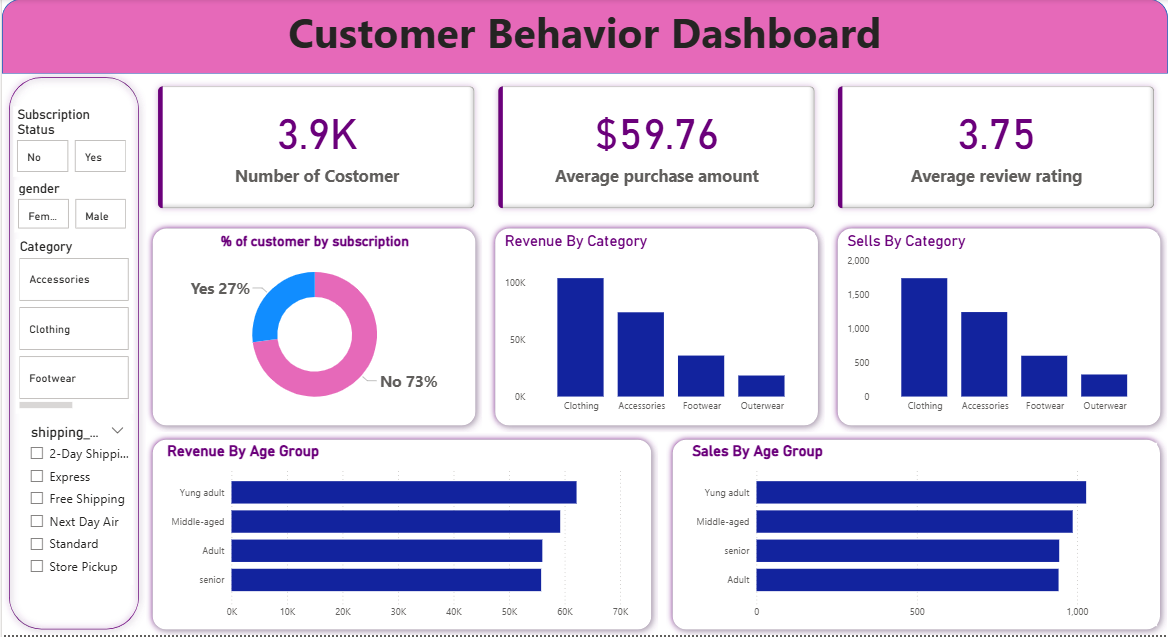

The dashboard page shown, as its layout file describes it:
{"tool":"powerbi","page":{"name":"Page 1","canvas":[1500,820],"ordinal":0},"visuals":[{"type":"cardVisual","fields":{"Data":["mydatabase mytable.Number of Costomer","mydatabase mytable.Average purchase amount","mydatabase mytable.Average review rating"]},"box":[185.2,96.1,1314.7,189.4],"z":0},{"type":"shape","box":[0,0,1499.9,96.1],"z":1000},{"type":"textbox","box":[0,0,1499.9,96.1],"z":2000},{"type":"shape","box":[185.2,285.5,433.1,271.6],"z":3000},{"type":"donutChart","title":"% of customer by subscription ","fields":{"Category":["mydatabase mytable.subscription_status"],"Y":["CountNonNull(mydatabase mytable.customer_id)"]},"box":[207.5,300.8,389.9,240.9],"z":4000},{"type":"shape","box":[1066.8,285.5,433.1,271.6],"z":5000},{"type":"shape","box":[625.3,285.5,433.1,271.6],"z":6000},{"type":"clusteredColumnChart","title":"Revenue By Category","fields":{"Y":["Sum(mydatabase mytable.purchase_amount)"],"Category":["mydatabase mytable.category"]},"box":[642,300.8,403.9,240.9],"z":7000},{"type":"clusteredColumnChart","title":"Sells By Category","fields":{"Y":["CountNonNull(mydatabase mytable.customer_id)"],"Category":["mydatabase mytable.category"]},"box":[1082.1,300.8,403.9,240.9],"z":8000},{"type":"shape","box":[0,91.9,185.2,728.4],"z":9000},{"type":"advancedSlicerVisual","fields":{"Values":["mydatabase mytable.gender"]},"box":[16.1,233.2,149.6,67.5],"z":10000},{"type":"advancedSlicerVisual","fields":{"Values":["mydatabase mytable.subscription_status"]},"box":[14.5,138.3,151.2,90.1],"z":11000},{"type":"advancedSlicerVisual","fields":{"Values":["mydatabase mytable.category"]},"box":[17.7,308.7,151.2,225.1],"z":12000},{"type":"slicer","fields":{"Values":["mydatabase mytable.shipping_type"]},"box":[24.1,541.9,144.7,212.3],"z":12001},{"type":"shape","box":[184.9,558,659.3,262.1],"z":12004},{"type":"clusteredBarChart","title":"Revenue By Age Group","fields":{"Y":["Sum(mydatabase mytable.purchase_amount)"],"Category":["mydatabase mytable.age_group"]},"box":[207.4,570.9,603,236.4],"z":12005},{"type":"shape","box":[853.9,558,644.8,262.1],"z":12006},{"type":"clusteredBarChart","title":"Sales By Age Group","fields":{"Y":["CountNonNull(mydatabase mytable.customer_id)"],"Category":["mydatabase mytable.age_group"]},"box":[882.8,570.9,603,236.4],"z":12007}]}

Visuals, with their boxes in screenshot pixels (x1, y1, x2, y2), scaled from the page's 1500x820 canvas onto the 1168x637 screenshot:
cardVisual - mydatabase mytable.Number of Costomer x mydatabase mytable.Average purchase amount: <box>144,75,1167,222</box>
shape: <box>0,0,1167,75</box>
textbox: <box>0,0,1167,75</box>
shape: <box>144,222,481,433</box>
"% of customer by subscription " donutChart: <box>162,234,465,421</box>
shape: <box>831,222,1167,433</box>
shape: <box>487,222,824,433</box>
"Revenue By Category" clusteredColumnChart: <box>500,234,814,421</box>
"Sells By Category" clusteredColumnChart: <box>843,234,1157,421</box>
shape: <box>0,71,144,636</box>
advancedSlicerVisual - mydatabase mytable.gender: <box>13,181,129,234</box>
advancedSlicerVisual - mydatabase mytable.subscription_status: <box>11,107,129,177</box>
advancedSlicerVisual - mydatabase mytable.category: <box>14,240,132,415</box>
slicer - mydatabase mytable.shipping_type: <box>19,421,131,586</box>
shape: <box>144,433,657,636</box>
"Revenue By Age Group" clusteredBarChart: <box>161,443,631,627</box>
shape: <box>665,433,1167,636</box>
"Sales By Age Group" clusteredBarChart: <box>687,443,1157,627</box>
